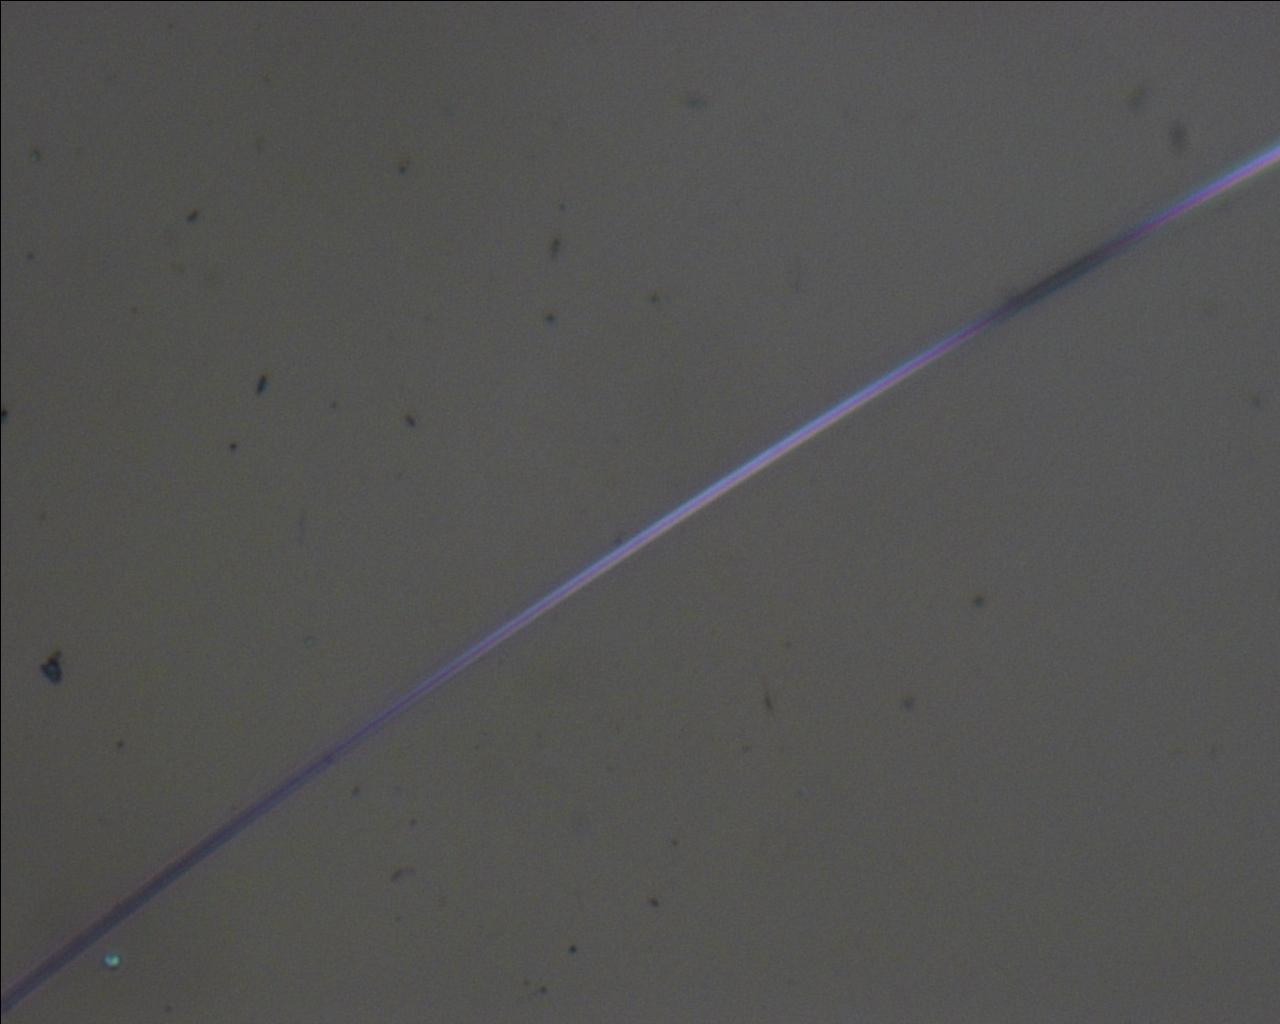fiber: (0, 141, 1280, 1017)
